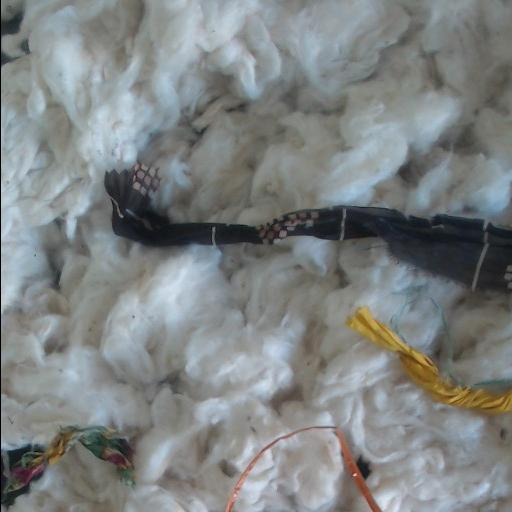cloth: (104, 169, 512, 292), (348, 308, 512, 413), (1, 426, 133, 505)
cotton: (1, 0, 512, 511)
thread: (224, 426, 382, 511)
